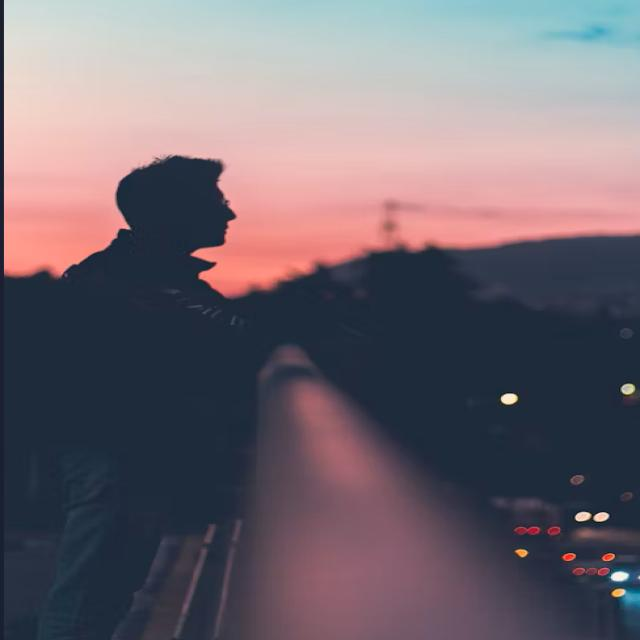Edited images: (22, 127, 304, 640)
